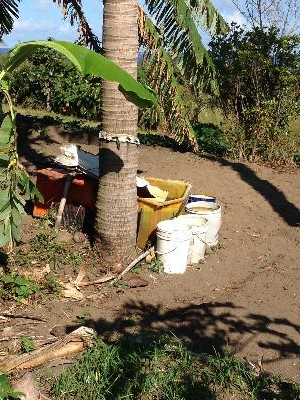box: (135, 175, 196, 250)
bucket: (150, 218, 190, 275), (184, 202, 222, 250), (175, 213, 208, 263)
